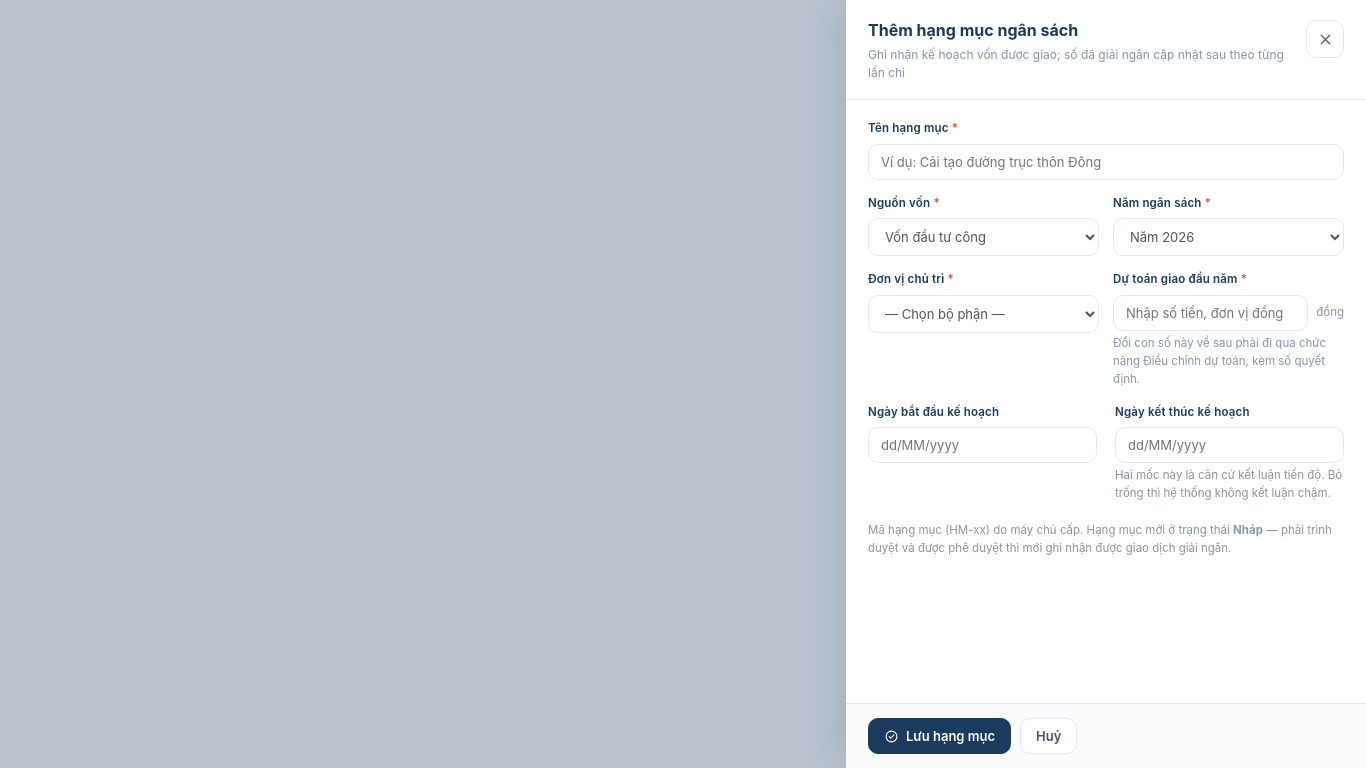
it: AddBudgetForm › gõ chữ vào ô tiền thì không có số nào lọt qua
The width and height of the screenshot is (1366, 768).
Type "Cải tạo đường trục thôn Đông" into the field labelled "Tên hạng mục *".
click(1106, 162); type("Cải tạo đường trục thôn Đông")  # box [868,144,1344,180]
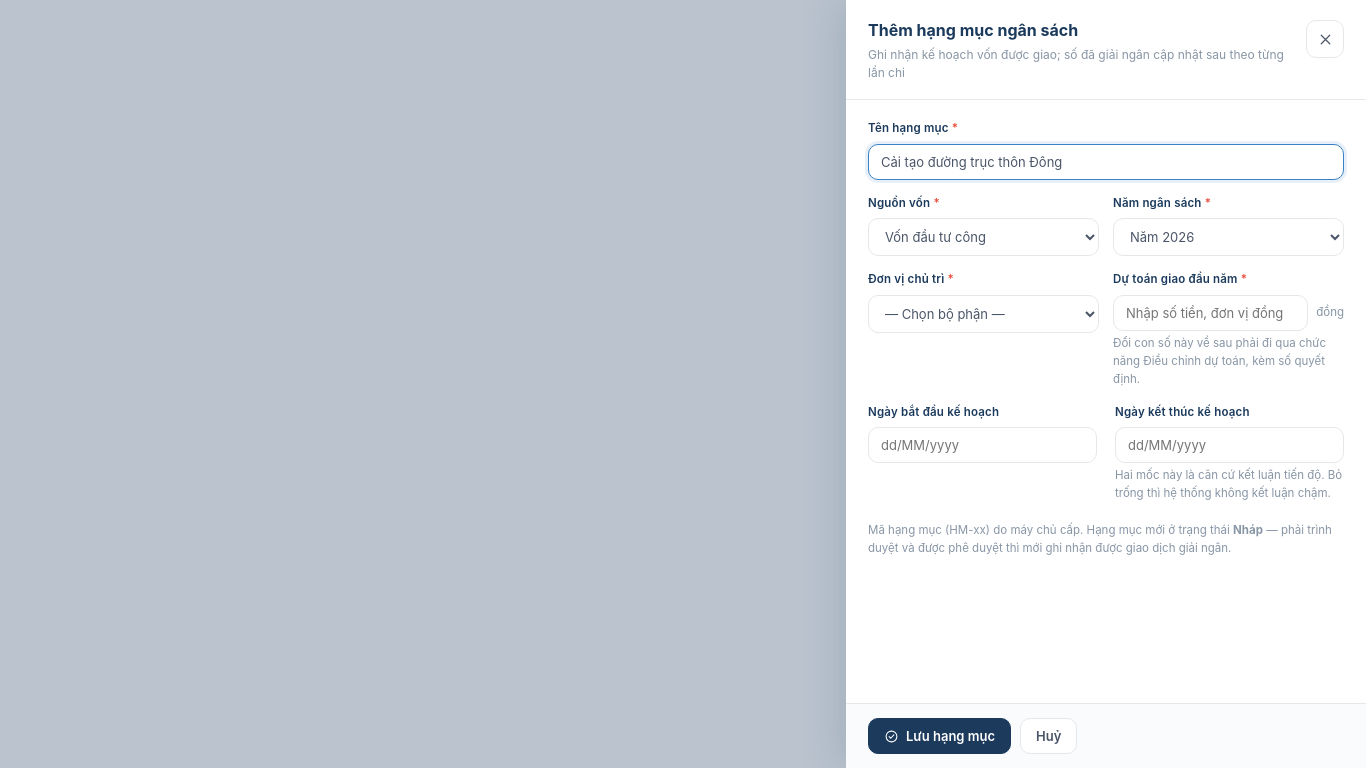
Select "Địa chính – Xây dựng" in the dropdown labelled "Đơn vị chủ trì *" at (984,314), box [868,295,1099,333]
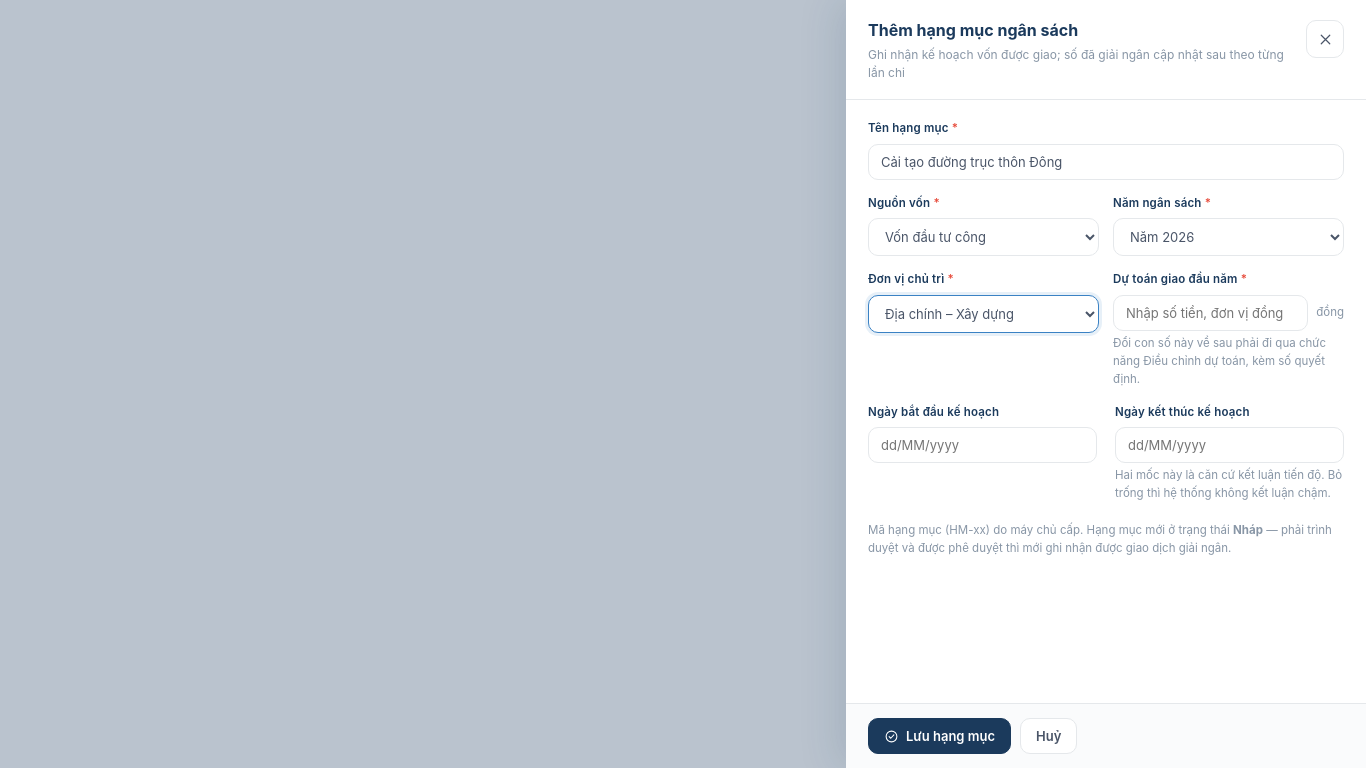
Type "chưa rõ" into the field labelled "Dự toán giao đầu năm *".
click(1211, 313); type("chưa rõ")  # box [1113,295,1308,331]
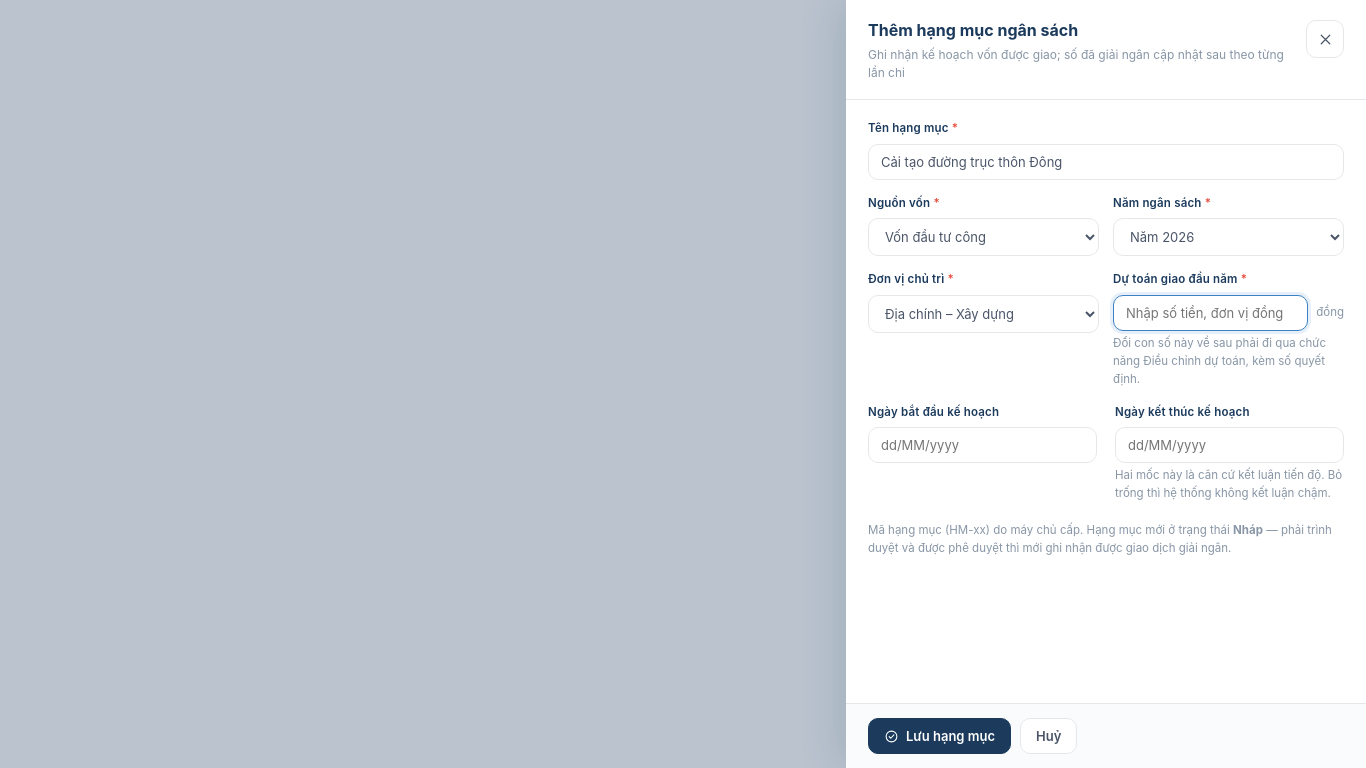
Click the button "Lưu hạng mục".
click(940, 736)  # box [868,718,1011,754]
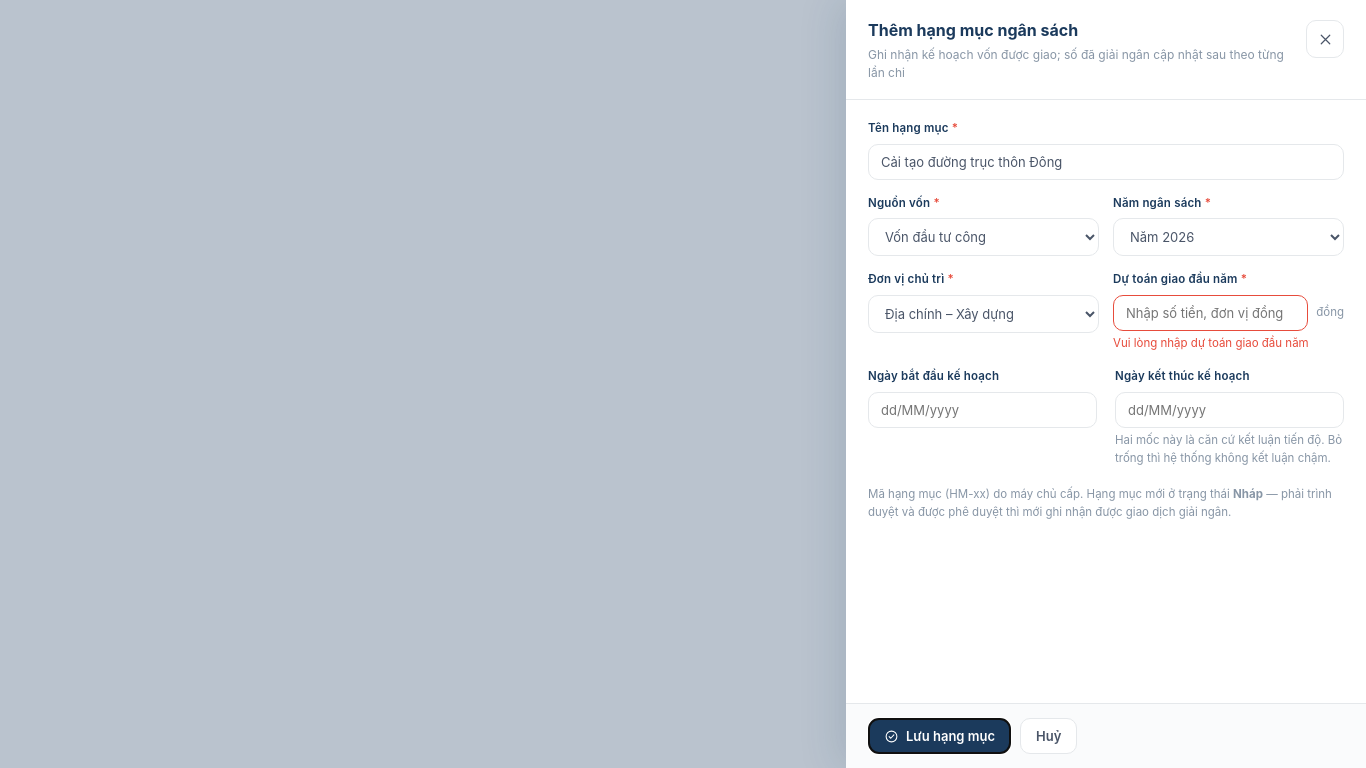
Expected: the text "Vui lòng nhập dự toán giao đầu năm" is shown, [1113,336,1309,350]
